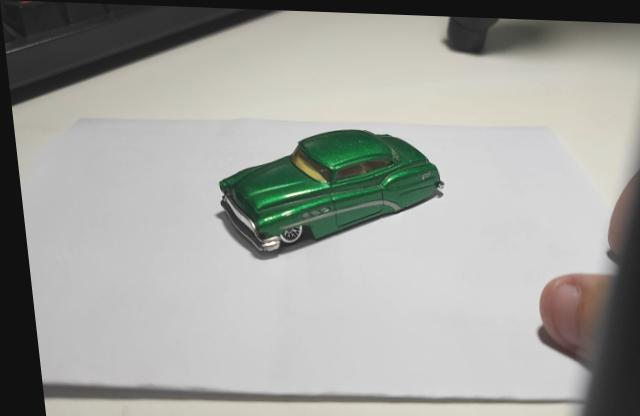06_MASERATI: (210, 128, 440, 260)
